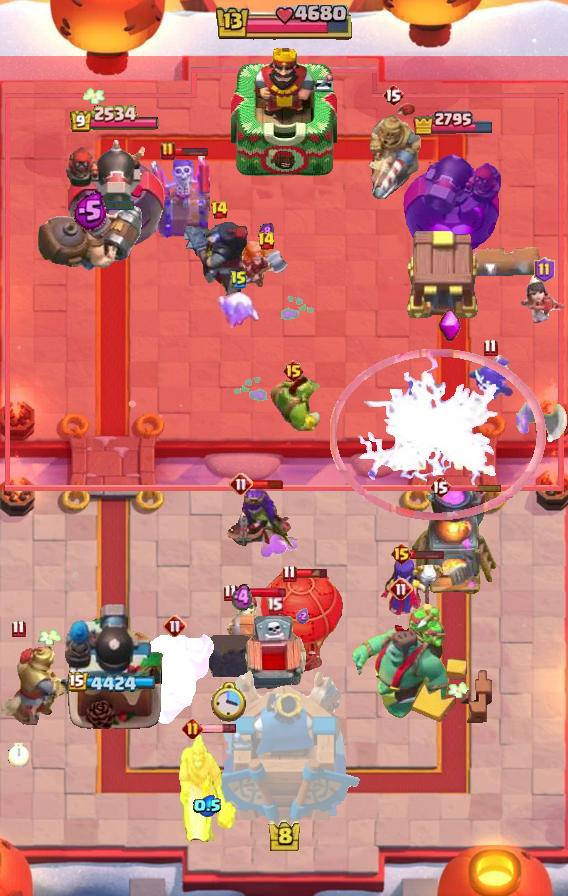axe: (379, 556, 447, 618)
baby-dragon: (207, 635, 251, 677)
barbarian-evolution: (330, 348, 547, 520)
barbarian-hut: (213, 484, 299, 556)
bomb: (404, 227, 484, 321)
cannon-cart: (260, 571, 344, 673)
clock: (213, 5, 355, 43)
electro-spirit: (73, 191, 107, 231), (193, 795, 222, 817), (232, 583, 252, 613), (259, 223, 273, 242), (296, 608, 308, 624)
elixir: (211, 681, 247, 722), (7, 743, 28, 767)
elixir-golem-mid: (239, 614, 309, 700)
emote: (237, 585, 288, 598), (83, 199, 137, 211), (449, 483, 503, 493), (200, 722, 237, 734), (174, 145, 209, 157), (295, 567, 330, 579), (410, 549, 446, 560), (250, 479, 284, 490)
flying-machine: (265, 371, 321, 431)
freeze: (176, 733, 238, 845)
hog-rider: (241, 241, 291, 289)
hunter: (410, 487, 498, 597)
inferno-dragon: (181, 217, 257, 303)
king-tower: (207, 669, 361, 826), (231, 43, 337, 181)
knight: (217, 594, 267, 650)
lava-hound: (349, 602, 453, 724), (134, 631, 216, 727)
minion: (435, 247, 543, 277)
mirror: (214, 290, 264, 328)
ram-rider: (0, 642, 106, 726), (364, 101, 422, 201)
royal-giant: (516, 398, 568, 448)
selected: (68, 106, 159, 135), (68, 672, 159, 696), (413, 109, 496, 135)
skeleton-dragon: (518, 274, 568, 326)
skeleton-king-bar: (148, 149, 210, 239)
skeleton-king-skill: (438, 309, 462, 343)
spear-goblin: (466, 353, 514, 401)
text: (229, 472, 253, 496), (389, 577, 413, 601), (163, 614, 187, 638), (283, 359, 306, 383), (391, 542, 414, 566), (534, 257, 555, 283), (382, 83, 404, 107), (429, 475, 451, 499), (181, 717, 202, 739), (210, 200, 230, 220), (256, 231, 276, 251), (230, 270, 248, 290), (265, 596, 282, 615), (160, 141, 176, 161), (223, 582, 238, 601), (282, 565, 297, 583), (483, 339, 497, 357), (11, 619, 25, 637)
tower-bar: (60, 132, 167, 256), (64, 601, 164, 731), (403, 138, 503, 256)
wizard: (34, 203, 146, 273)
